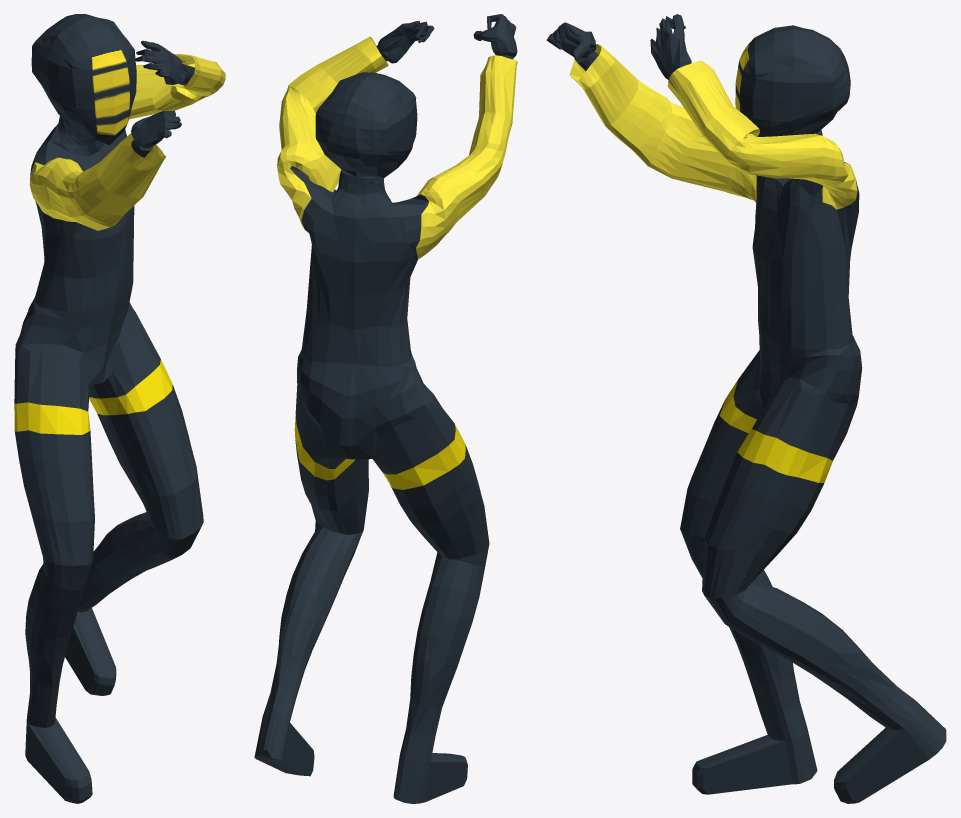
Rendered from Sentry_Attack_000005.obj.
The picture shows the model from 3 angles, left to right: view 1: azimuth 30°, elevation 25°; view 2: azimuth 150°, elevation 25°; view 3: azimuth 270°, elevation 25°; orthographic projection. The views are drawn at different scales.
Visible parts, largest first — view 1: Cube; view 2: Cube; view 3: Cube.
Boxes of the visible parts, bbox=[...] form: Cube: bbox=[14, 14, 225, 803]; Cube: bbox=[254, 14, 517, 803]; Cube: bbox=[546, 14, 946, 803].
Size of the model in its own units: 1.05 by 3.9 by 1.76.
